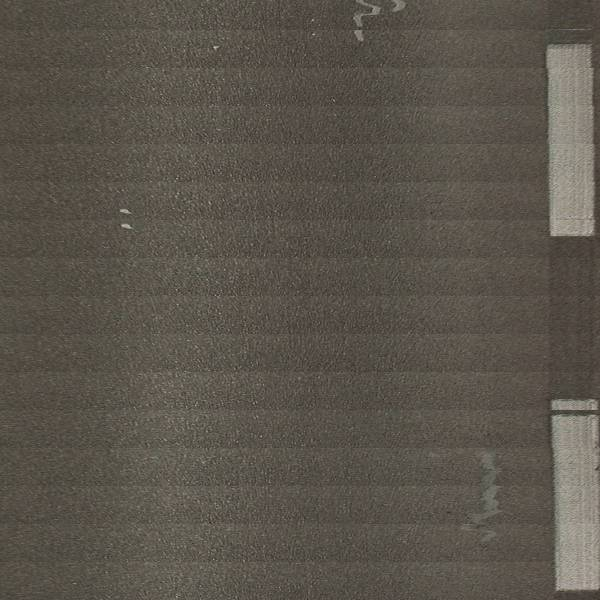road_damage: (454, 439, 509, 551), (349, 1, 411, 50)
